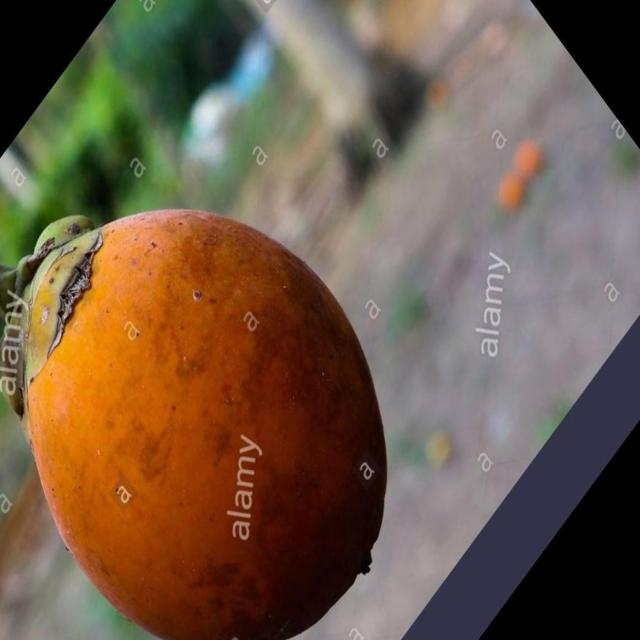good: (17, 210, 388, 639)
